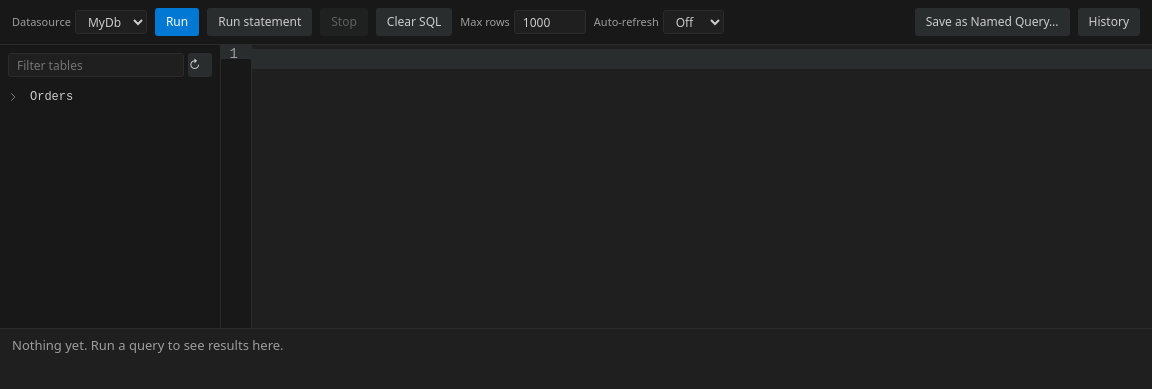
Test: QueryBrowser — auto-refresh (E) › refuses a nonzero interval before any eligible run has happened
Step 1. Select "30 s" in the dropdown labelled "Auto-refresh" → point(693, 22), box [663, 10, 724, 34]
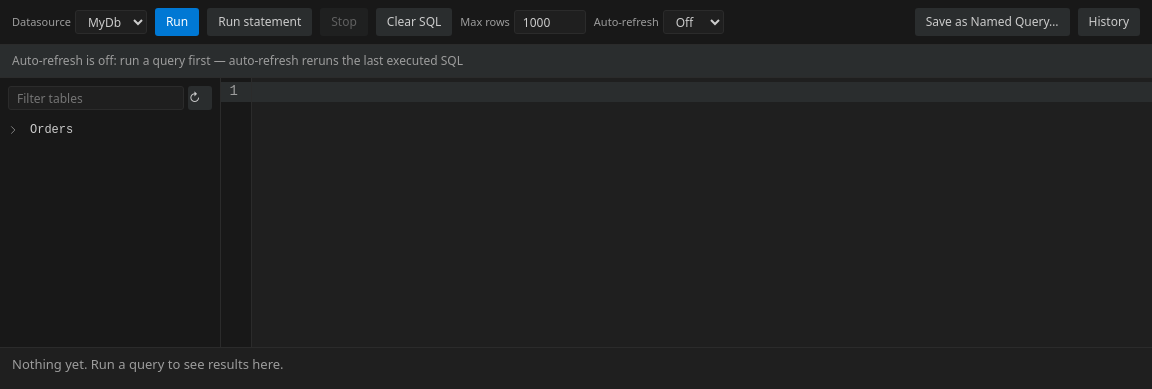
Result: the text "Auto-refresh is off" is shown at [12, 52, 120, 69]
